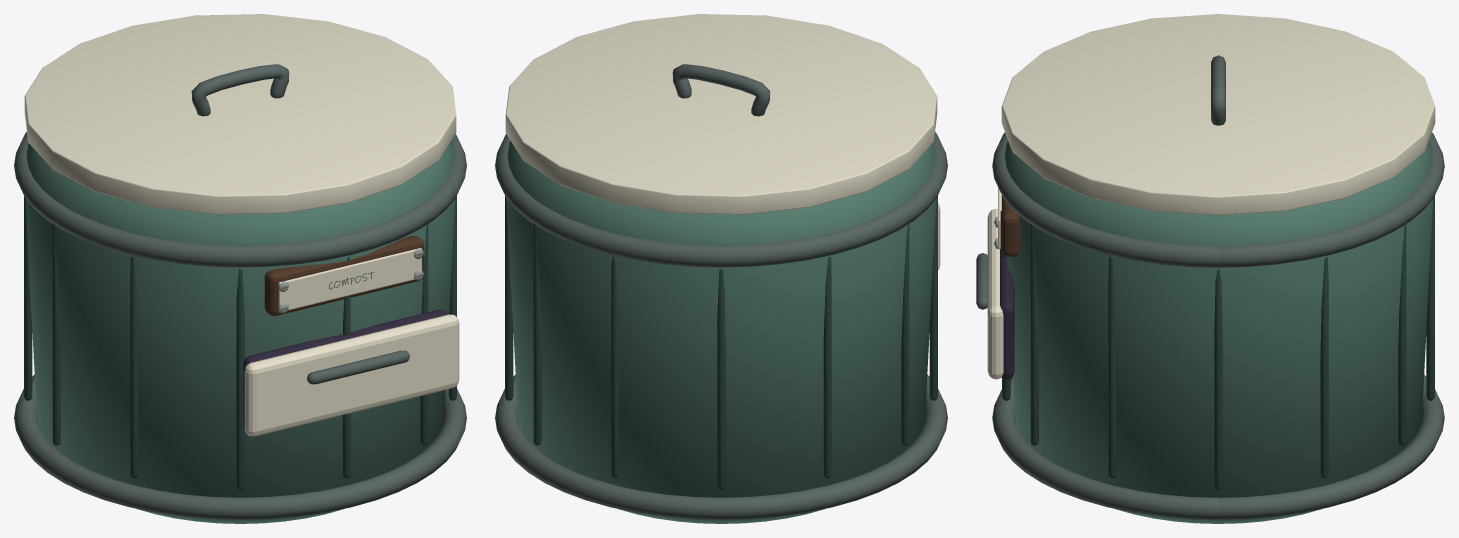
File: composter.glb
3 renders of one model, left to right at view 1: azimuth 30°, elevation 25°; view 2: azimuth 150°, elevation 25°; view 3: azimuth 270°, elevation 25°, orthographic.
Visible parts, largest first — view 1: Ribbed_vessel, Cream_lid, Feed_hatch, Steel_hoop, Steel_hoop.001, Sign_cream_face, Sign_timber, Lid_handle, Moulded_rib.004, Moulded_rib.005, Intake, Moulded_rib.006 (+5 smaller); view 2: Ribbed_vessel, Cream_lid, Steel_hoop, Steel_hoop.001, Lid_handle, Moulded_rib.008, Moulded_rib.007, Moulded_rib.009, Moulded_rib.010, Moulded_rib.006, Moulded_rib.005, Moulded_rib.011; view 3: Ribbed_vessel, Cream_lid, Steel_hoop, Steel_hoop.001, Feed_hatch, Moulded_rib, Moulded_rib.001, Moulded_rib.011, Moulded_rib.002, Moulded_rib.010, Intake, Moulded_rib.009 (+3 smaller).
Part boxes in pixels (<box>): Ribbed_vessel: <box>25,141,455,523</box>; Cream_lid: <box>24,14,456,214</box>; Feed_hatch: <box>244,314,459,436</box>; Steel_hoop: <box>14,374,466,519</box>; Steel_hoop.001: <box>14,132,466,267</box>; Sign_cream_face: <box>278,248,421,312</box>; Sign_timber: <box>264,235,423,315</box>; Lid_handle: <box>191,64,289,116</box>; Moulded_rib.004: <box>236,269,244,490</box>; Moulded_rib.005: <box>130,257,138,478</box>; Intake: <box>243,309,448,429</box>; Moulded_rib.006: <box>52,224,60,445</box>; Ribbed_vessel: <box>506,141,936,523</box>; Cream_lid: <box>505,14,937,214</box>; Steel_hoop: <box>495,374,947,519</box>; Steel_hoop.001: <box>495,132,947,267</box>; Lid_handle: <box>672,64,770,116</box>; Moulded_rib.008: <box>717,269,725,490</box>; Moulded_rib.007: <box>823,257,831,478</box>; Moulded_rib.009: <box>611,256,619,478</box>; Moulded_rib.010: <box>533,224,541,445</box>; Moulded_rib.006: <box>901,224,909,445</box>; Moulded_rib.005: <box>929,196,937,400</box>; Moulded_rib.011: <box>505,196,513,400</box>; Ribbed_vessel: <box>1004,141,1433,523</box>; Cream_lid: <box>1001,14,1435,215</box>; Steel_hoop: <box>992,374,1444,519</box>; Steel_hoop.001: <box>992,132,1444,267</box>; Feed_hatch: <box>987,209,1003,379</box>; Moulded_rib: <box>1214,269,1222,490</box>; Moulded_rib.001: <box>1108,257,1116,478</box>; Moulded_rib.011: <box>1320,257,1328,478</box>; Moulded_rib.002: <box>1030,224,1038,445</box>; Moulded_rib.010: <box>1398,224,1406,445</box>; Intake: <box>1000,211,1014,379</box>; Moulded_rib.009: <box>1426,196,1434,400</box>.
Size of the model in its own units: 0.9599 by 0.8923 by 0.994.
